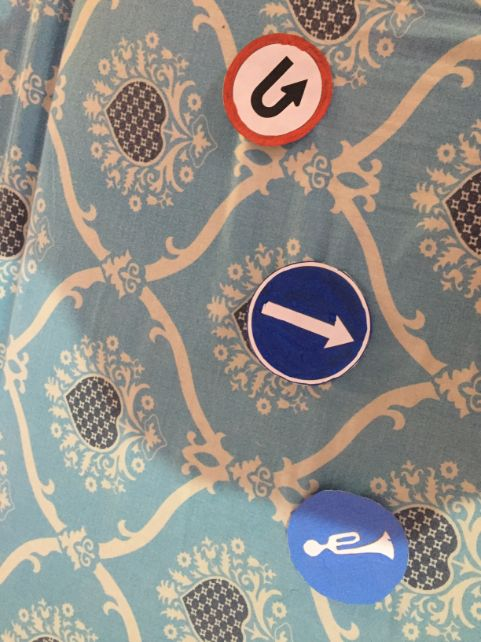blow-horn: (287, 488, 409, 610)
go-stright: (247, 261, 372, 386)
u-turn: (220, 28, 339, 147)
